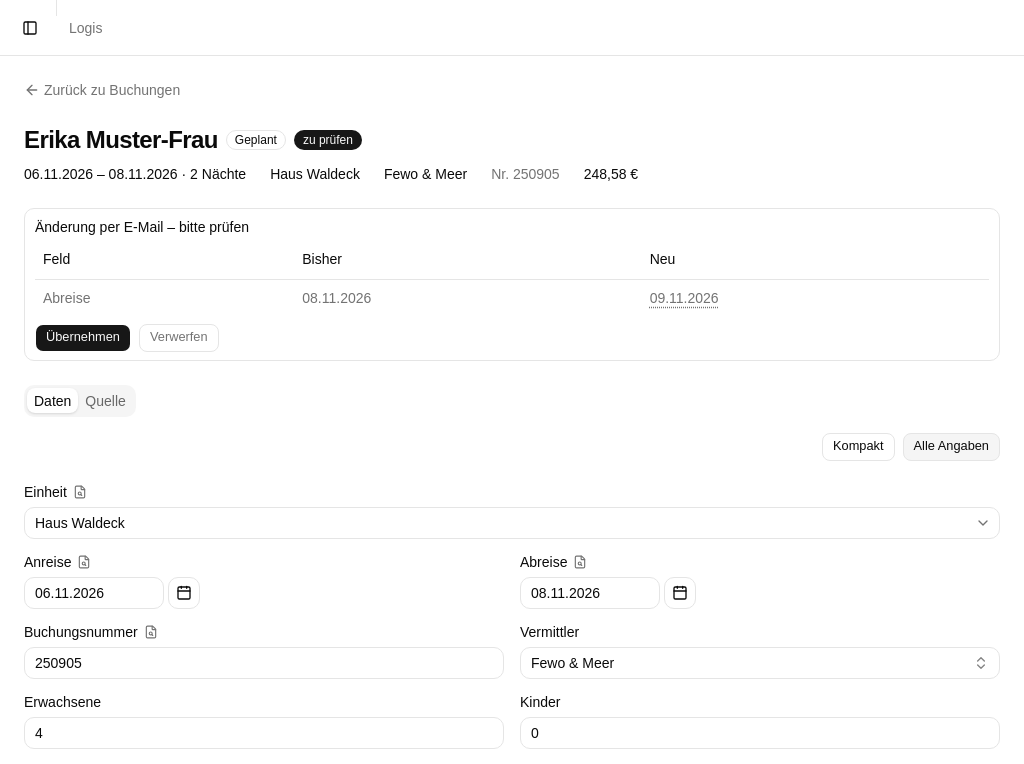
Booking page › shows a proposed value in the mail that proposes it
Step 1. Click the field labelled "Anreise" → [94, 592], box x1=24 y1=576 x2=164 y2=608
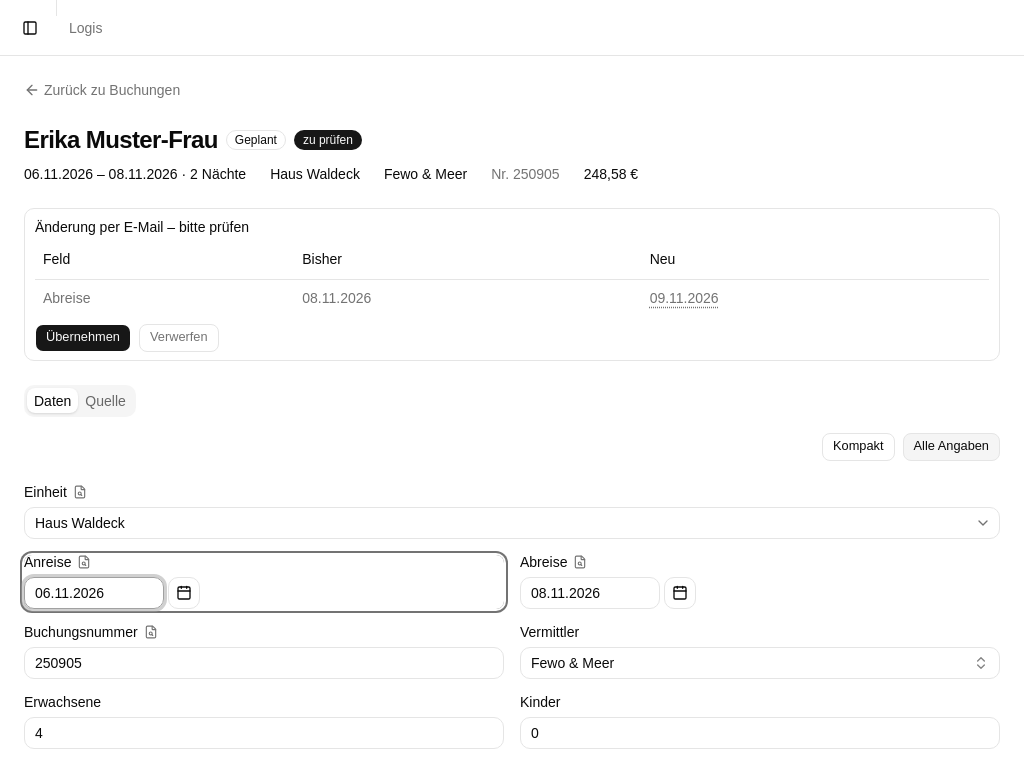
Step 2. Click the button "09.11.2026" → [684, 298], box x1=650 y1=288 x2=719 y2=308
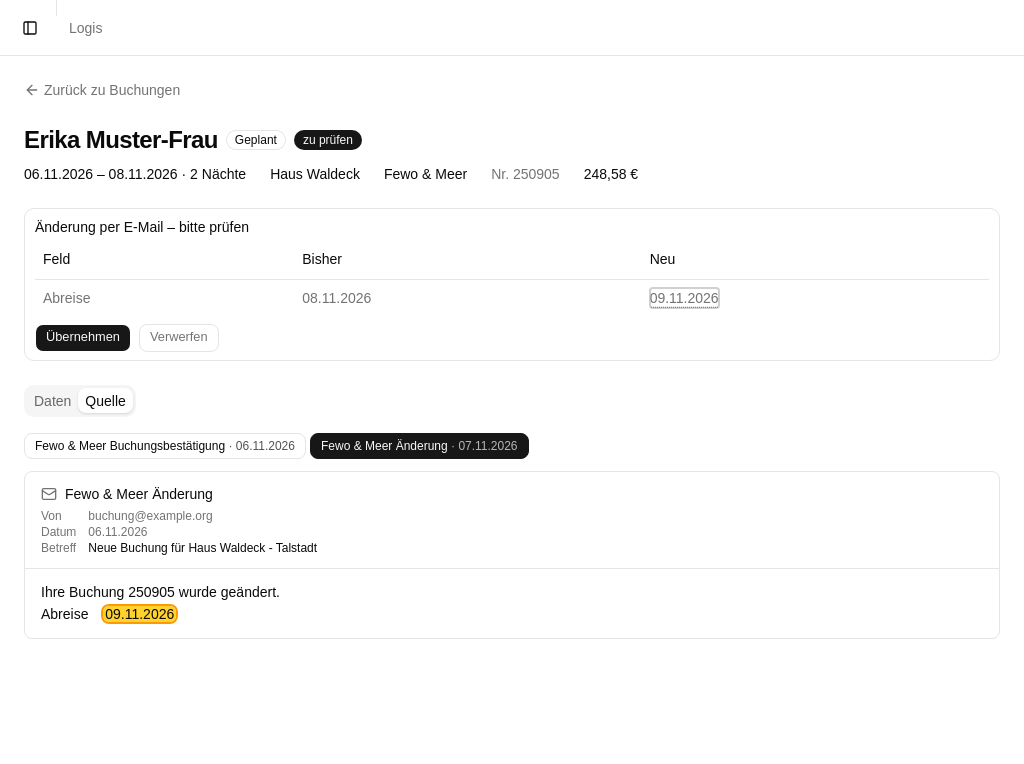
Result: the text "09.11.2026" is shown at x1=103 y1=606 x2=176 y2=622
